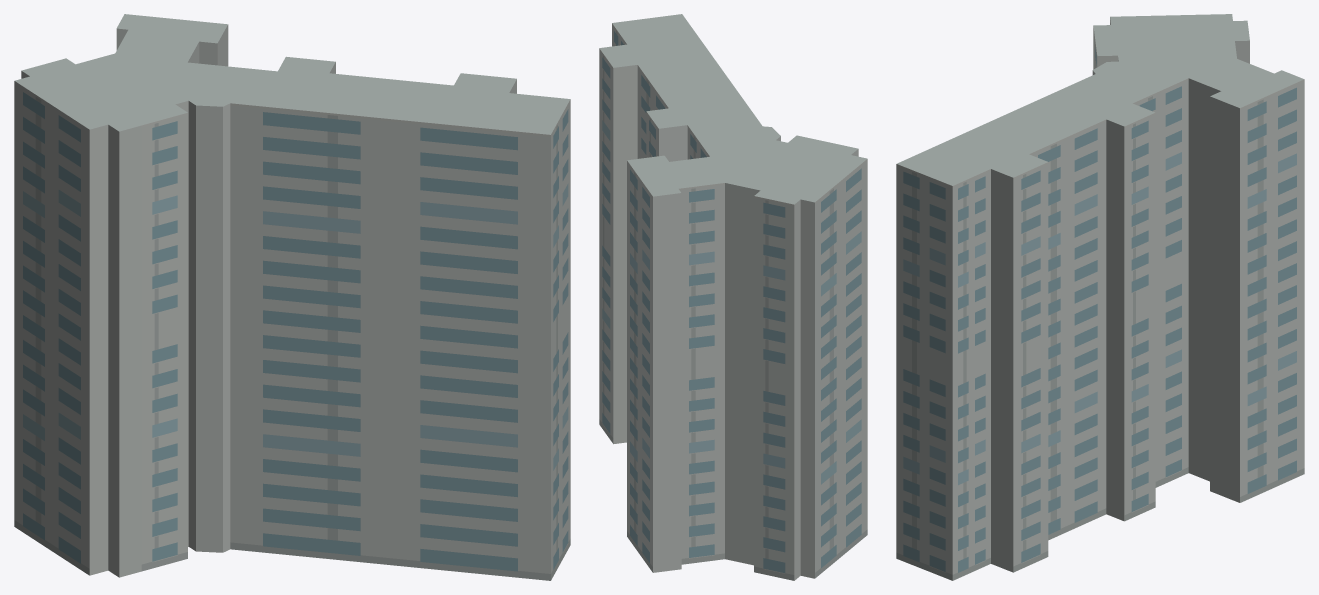
The model's file is residential-28834018-d996-4aa4-aff1-e6a207f546eb.glb.
3 views of the same model, side by side, from view 1: azimuth 30°, elevation 25°; view 2: azimuth 150°, elevation 25°; view 3: azimuth 270°, elevation 25° (orthographic). The views are drawn at different scales.
Visible parts, largest first — view 1: residential-28834018-d996-4aa4-aff1-e6a207f546eb.tmp; view 2: residential-28834018-d996-4aa4-aff1-e6a207f546eb.tmp; view 3: residential-28834018-d996-4aa4-aff1-e6a207f546eb.tmp.
Boxes of the visible parts, x1,y1,x2,y2 form: residential-28834018-d996-4aa4-aff1-e6a207f546eb.tmp: (14,14,570,580); residential-28834018-d996-4aa4-aff1-e6a207f546eb.tmp: (599,14,867,580); residential-28834018-d996-4aa4-aff1-e6a207f546eb.tmp: (896,14,1304,580).
Bounding box in the file's own units: 51.32 × 54.9 × 51.43.
